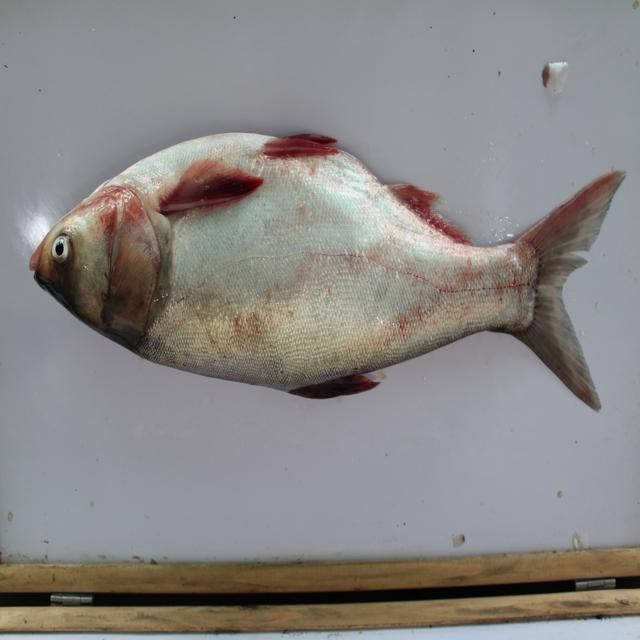SilverCarp: (22, 124, 632, 429)
